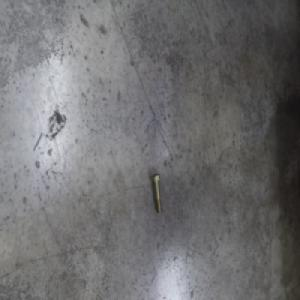Bolt: (155, 174, 168, 217)
